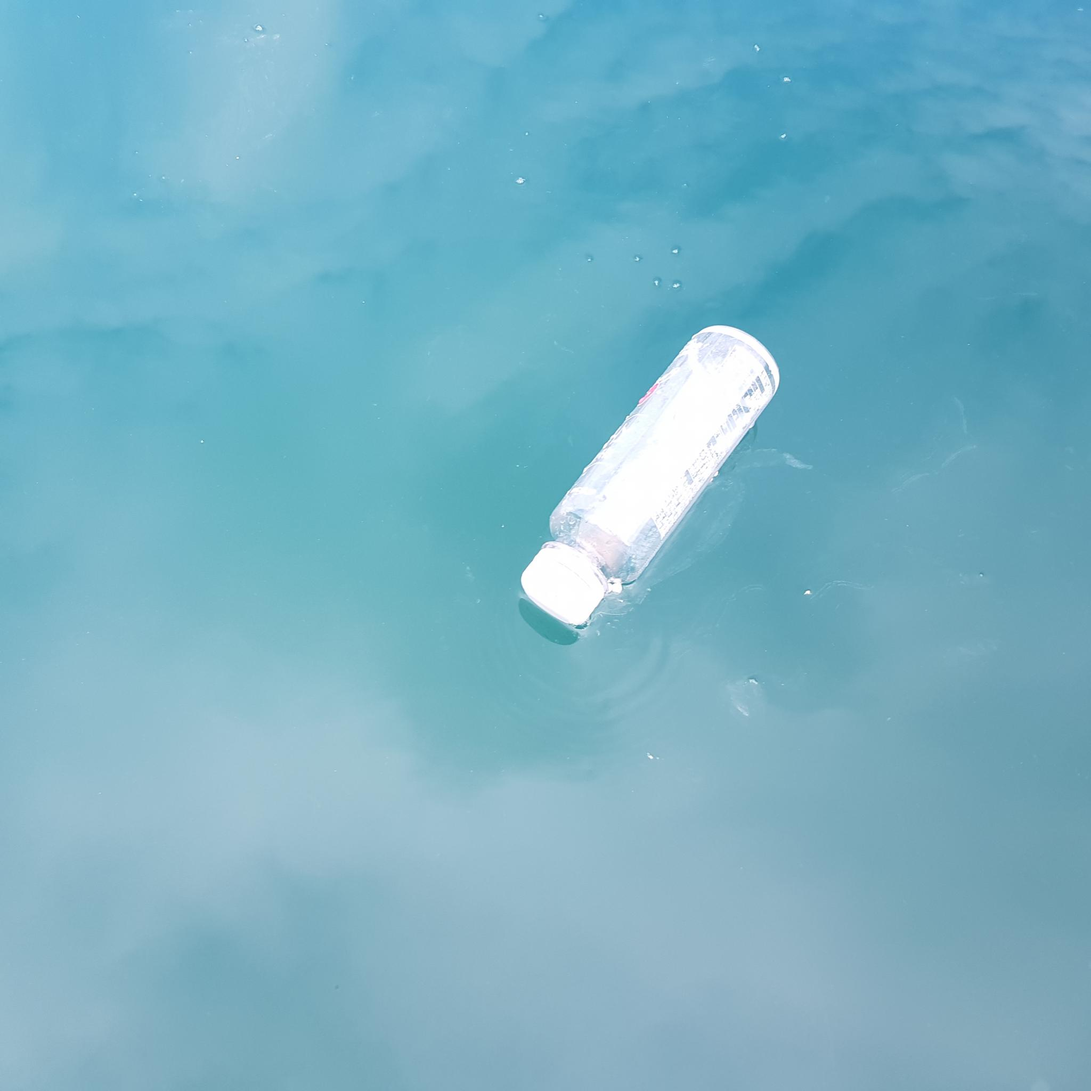sampah_terapung: (520, 324, 780, 627)
